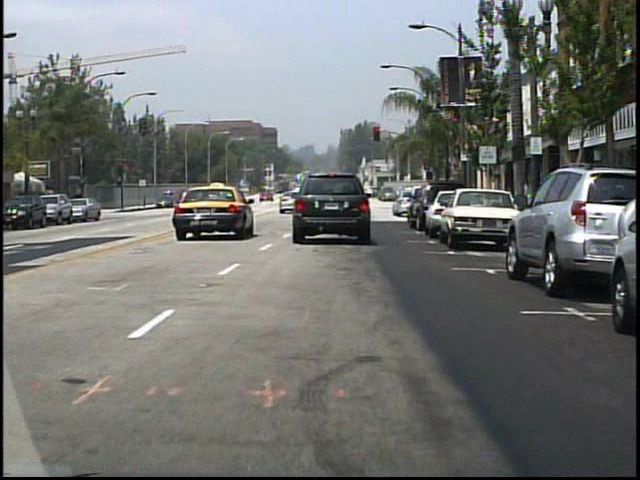person: (348, 186, 365, 218), (185, 188, 200, 213)
